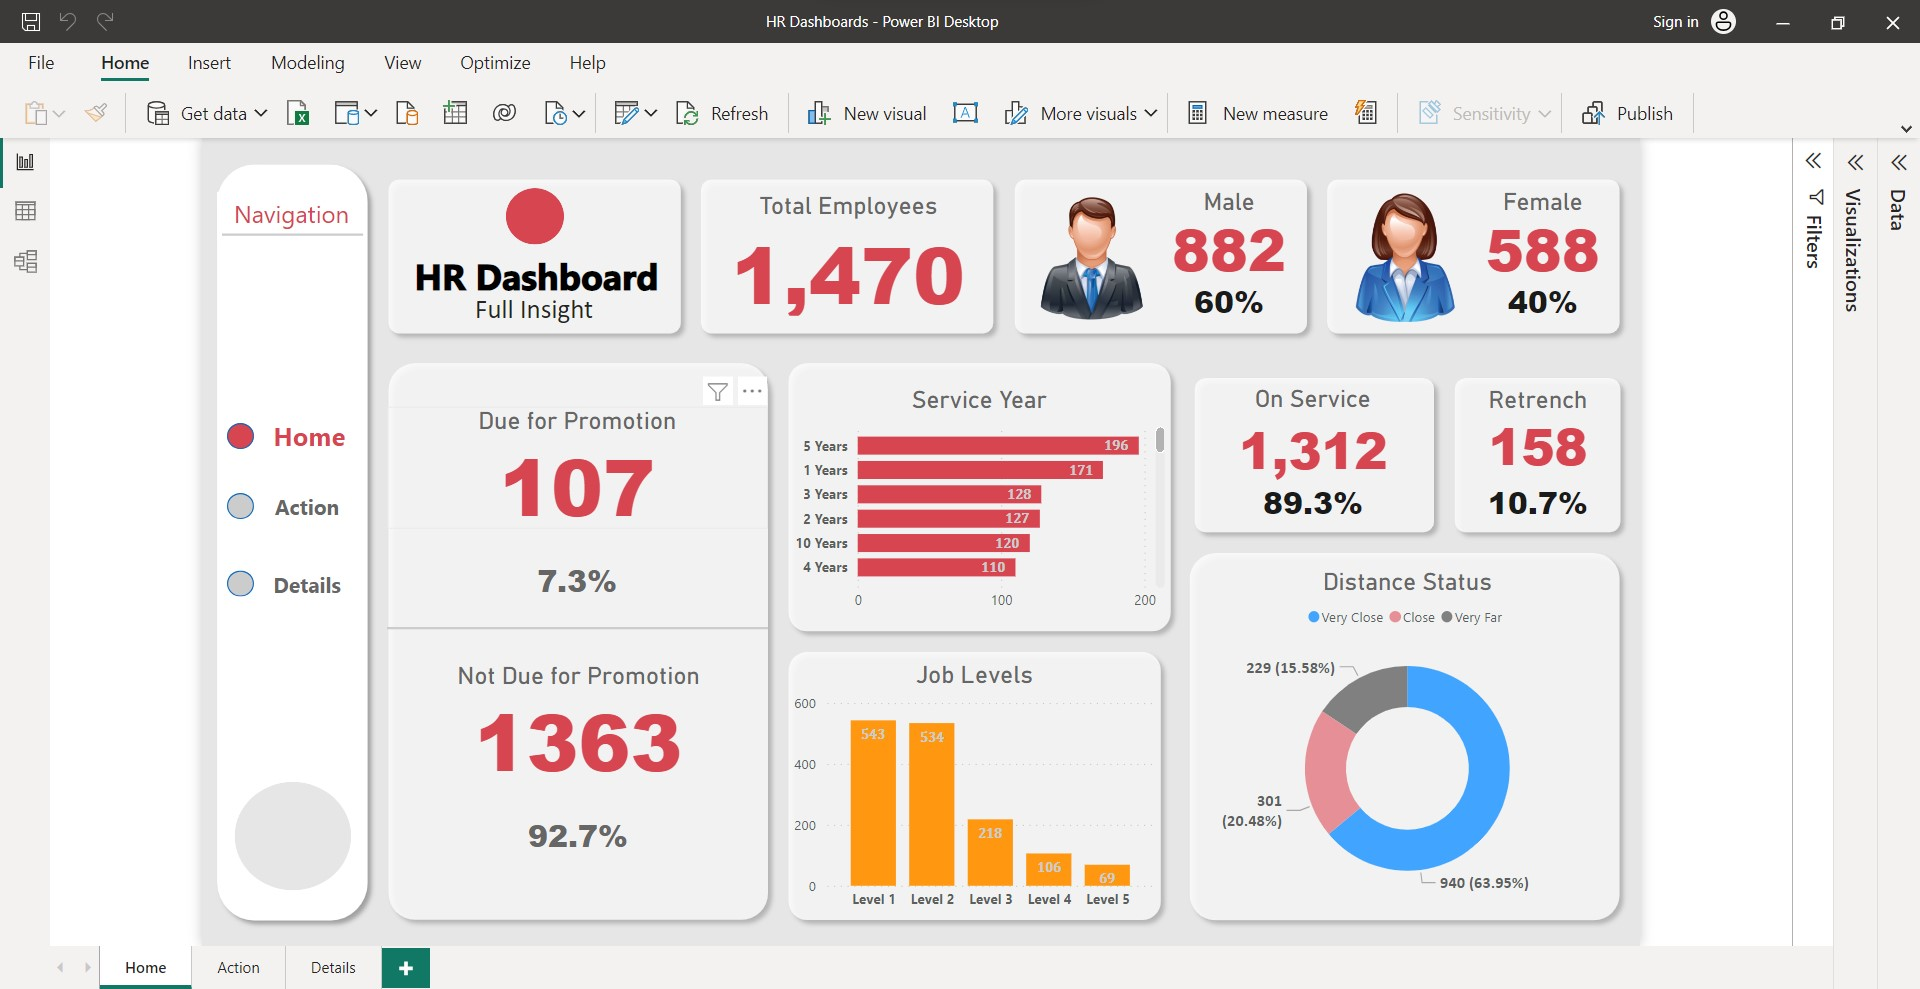

Layout of this report page (visuals, bound fields, positions):
{"tool":"powerbi","page":{"name":"Home","canvas":[1280,720],"ordinal":0},"visuals":[{"type":"shape","box":[4.8,14.5,152,691.1],"z":0},{"type":"shape","box":[156.8,27.7,278.6,155.6],"z":1000},{"type":"shape","box":[435.4,27.7,278.6,155.6],"z":2000},{"type":"shape","box":[714,27.7,278.6,155.6],"z":3000},{"type":"shape","box":[992.6,27.7,278.6,155.6],"z":4000},{"type":"shape","box":[156.8,191.8,355.8,513.8],"z":5000},{"type":"shape","box":[512.6,191.8,358.2,256.9],"z":6000},{"type":"shape","box":[512.6,448.6,349.7,256.9],"z":7000},{"type":"shape","box":[870.8,360.6,400.4,344.9],"z":8000},{"type":"shape","box":[874.4,205,231.6,155.6],"z":9000},{"type":"shape","box":[1105.9,205,165.2,155.6],"z":10000},{"type":"textbox","box":[166.4,95.3,261.7,59.1],"z":11000},{"type":"textbox","box":[165.2,132.7,261.7,59.1],"z":12000},{"type":"shape","box":[270.2,44.6,51.9,50.7],"z":13000},{"type":"card","title":"Total Employees","fields":{"Values":["All Measures.Total Employees"]},"box":[445,48.2,260.5,115.8],"z":14000},{"type":"card","title":"Male","fields":{"Values":["All Measures.Male"]},"box":[853.9,44.6,121.8,80.8],"z":15000},{"type":"card","title":"Male","fields":{"Values":["All Measures.% Male"]},"box":[853.9,106.1,121.8,80.8],"z":16000},{"type":"card","title":"Female","fields":{"Values":["All Measures.Female"]},"box":[1132.5,44.6,121.8,80.8],"z":17000},{"type":"card","title":"Male","fields":{"Values":["All Measures.% Female"]},"box":[1132.5,106.1,121.8,80.8],"z":18000},{"type":"image","box":[729.6,44.6,124.2,124.2],"z":19000},{"type":"image","box":[1010.7,44.6,121.8,124.2],"z":20000},{"type":"card","title":"Due for Promotion","fields":{"Values":["All Measures.Due for Promotion"]},"box":[165.2,238.8,338.9,109.7],"z":21000},{"type":"card","title":"Not Due for Promotion","fields":{"Values":["All Measures.Not Due"]},"box":[166.2,465.8,338.9,109.7],"z":22000},{"type":"card","fields":{"Values":["All Measures.% of Due for Promotion"]},"box":[165.2,348.5,338.9,94.1],"z":23000},{"type":"card","fields":{"Values":["All Measures.% of Not Due"]},"box":[166.2,575.5,337.7,94.1],"z":24000},{"type":"shape","box":[165.2,429.3,338.9,13.3],"z":25000},{"type":"barChart","title":"Service Year","fields":{"Category":["HR Analytics Data.Service Year"],"Y":["All Measures.Total Employees"]},"box":[522.2,220.7,340.1,208.6],"z":26000},{"type":"columnChart","title":"Job Levels","fields":{"Category":["HR Analytics Data.Job Levels"],"Y":["All Measures.Total Employees"]},"box":[522.2,465.5,331.7,230.4],"z":27000},{"type":"card","title":"Retrench","fields":{"Values":["All Measures.Will br Retrenched"]},"box":[1128,220.6,121.8,80.8],"z":28000},{"type":"card","title":"Male","fields":{"Values":["All Measures.% Will be Retrenchment"]},"box":[1128.8,284.6,121.8,80.8],"z":29000},{"type":"card","title":"On Service","fields":{"Values":["All Measures.On service"]},"box":[885.2,219.5,208.6,90.5],"z":30000},{"type":"card","title":"Male","fields":{"Values":["All Measures.% On Service"]},"box":[885.2,284.6,208.6,80.8],"z":31000},{"type":"donutChart","title":"Distance Status","fields":{"Category":["HR Analytics Data.Distance Status"],"Y":["All Measures.Total Employees"]},"box":[874.4,382.3,396.8,305.1],"z":32000},{"type":"textbox","box":[13.3,48.2,132.7,47],"z":33000},{"type":"shape","box":[18.1,80.8,125.4,9.6],"z":34000},{"type":"shape","box":[21.7,253.3,24.1,22.9],"z":35000},{"type":"shape","box":[21.7,316,24.1,22.9],"z":36000},{"type":"shape","box":[21.7,384.7,24.1,22.9],"z":37000},{"type":"actionButton","title":"Home","box":[45.8,249.6,100.1,35],"z":38000},{"type":"actionButton","title":"Action","box":[43.4,316,100.1,53.1],"z":39000},{"type":"actionButton","title":"Details","box":[43.4,384.7,100.1,59.1],"z":40000},{"type":"shape","box":[28.9,572.9,103.7,96.5],"z":40001}]}

Visuals, with their boxes on the page's 1280x720 design canvas (x1, y1, x2, y2). These are canvas units, not pixel positions in the 1920x989 screenshot, which may show the page scaled, cropped or inside an application window:
shape: locate(5, 14, 157, 706)
shape: locate(157, 28, 435, 183)
shape: locate(435, 28, 714, 183)
shape: locate(714, 28, 993, 183)
shape: locate(993, 28, 1271, 183)
shape: locate(157, 192, 513, 706)
shape: locate(513, 192, 871, 449)
shape: locate(513, 449, 862, 706)
shape: locate(871, 361, 1271, 706)
shape: locate(874, 205, 1106, 361)
shape: locate(1106, 205, 1271, 361)
textbox: locate(166, 95, 428, 154)
textbox: locate(165, 133, 427, 192)
shape: locate(270, 45, 322, 95)
"Total Employees" card: locate(445, 48, 706, 164)
"Male" card: locate(854, 45, 976, 125)
"Male" card: locate(854, 106, 976, 187)
"Female" card: locate(1132, 45, 1254, 125)
"Male" card: locate(1132, 106, 1254, 187)
image: locate(730, 45, 854, 169)
image: locate(1011, 45, 1132, 169)
"Due for Promotion" card: locate(165, 239, 504, 348)
"Not Due for Promotion" card: locate(166, 466, 505, 576)
card - All Measures.% of Due for Promotion: locate(165, 348, 504, 443)
card - All Measures.% of Not Due: locate(166, 576, 504, 670)
shape: locate(165, 429, 504, 443)
"Service Year" barChart: locate(522, 221, 862, 429)
"Job Levels" columnChart: locate(522, 466, 854, 696)
"Retrench" card: locate(1128, 221, 1250, 301)
"Male" card: locate(1129, 285, 1251, 365)
"On Service" card: locate(885, 220, 1094, 310)
"Male" card: locate(885, 285, 1094, 365)
"Distance Status" donutChart: locate(874, 382, 1271, 687)
textbox: locate(13, 48, 146, 95)
shape: locate(18, 81, 144, 90)
shape: locate(22, 253, 46, 276)
shape: locate(22, 316, 46, 339)
shape: locate(22, 385, 46, 408)
"Home" actionButton: locate(46, 250, 146, 285)
"Action" actionButton: locate(43, 316, 144, 369)
"Details" actionButton: locate(43, 385, 144, 444)
shape: locate(29, 573, 133, 669)
